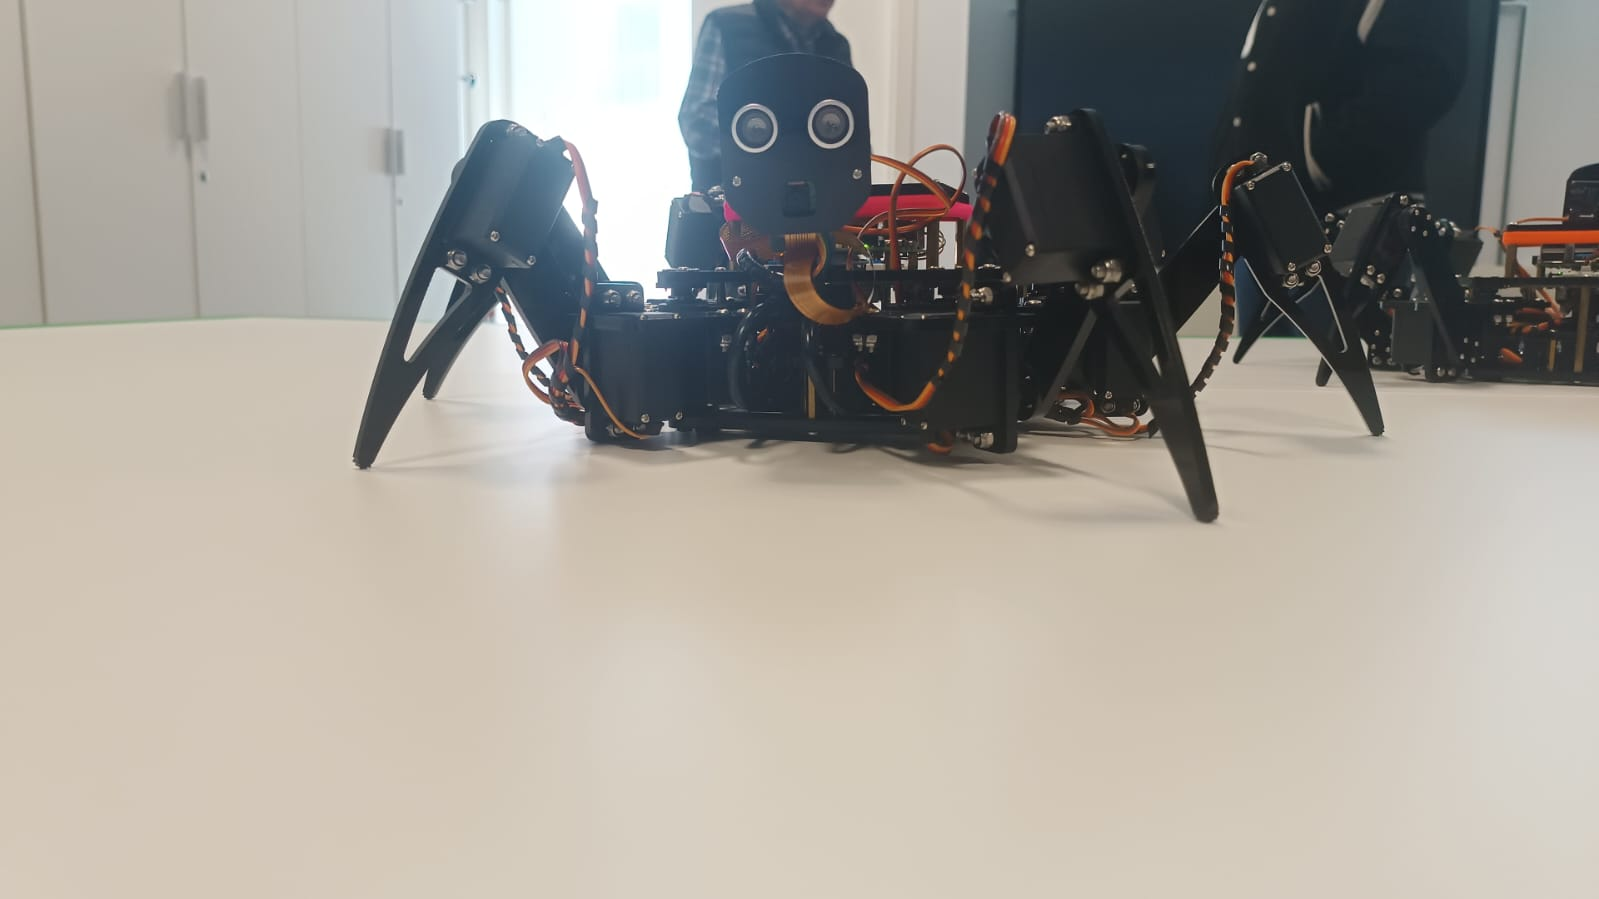hexapodo_ajeno: (1237, 142, 1599, 389)
hexapodo_propio: (348, 50, 1388, 521)
